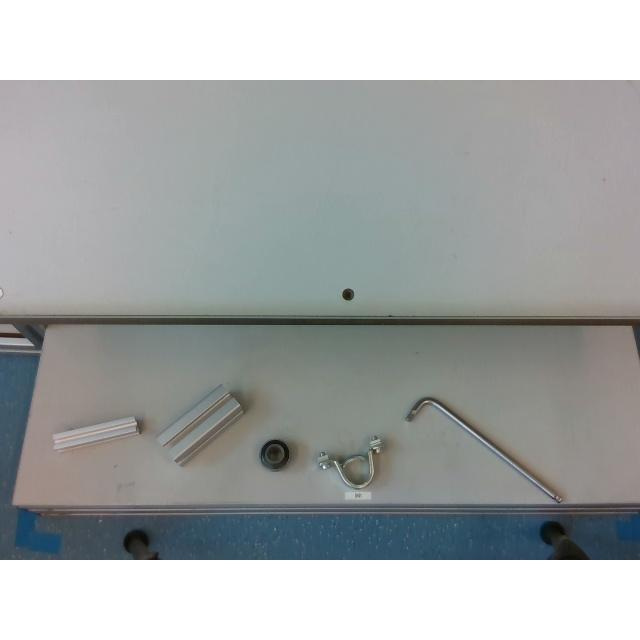AllenKey: (404, 397, 562, 503)
Bearing2: (260, 438, 288, 469)
F20_20_G: (52, 416, 138, 450)
Housing: (318, 448, 378, 488)
S40_40_G: (157, 386, 243, 464)
